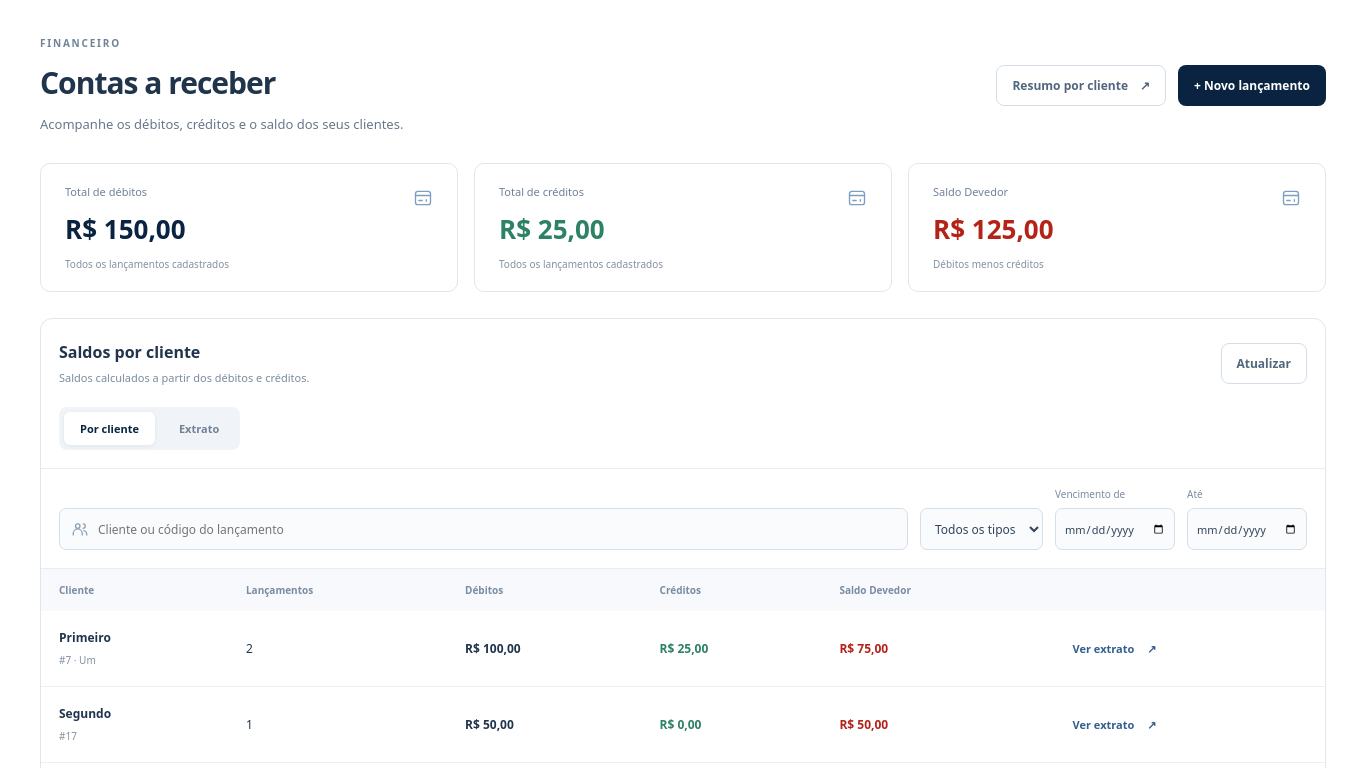
receivables screen › defaults to customer balances ordered by latest entry and opens an exact customer statement
The width and height of the screenshot is (1366, 768).
Expected: the row "Primeiro #7 · Um 2 R$ 100,00 R$ 25,00 R$ 75,00 Ver extrato ↗" is shown, [41,611,1325,687]
Expected: the row "Segundo #17 1 R$ 50,00 R$ 0,00 R$ 50,00 Ver extrato ↗" is shown, [41,687,1325,763]
Click the button with aria-label "Ver extrato de Primeiro".
click(1114, 649)  # box [1068,636,1161,661]
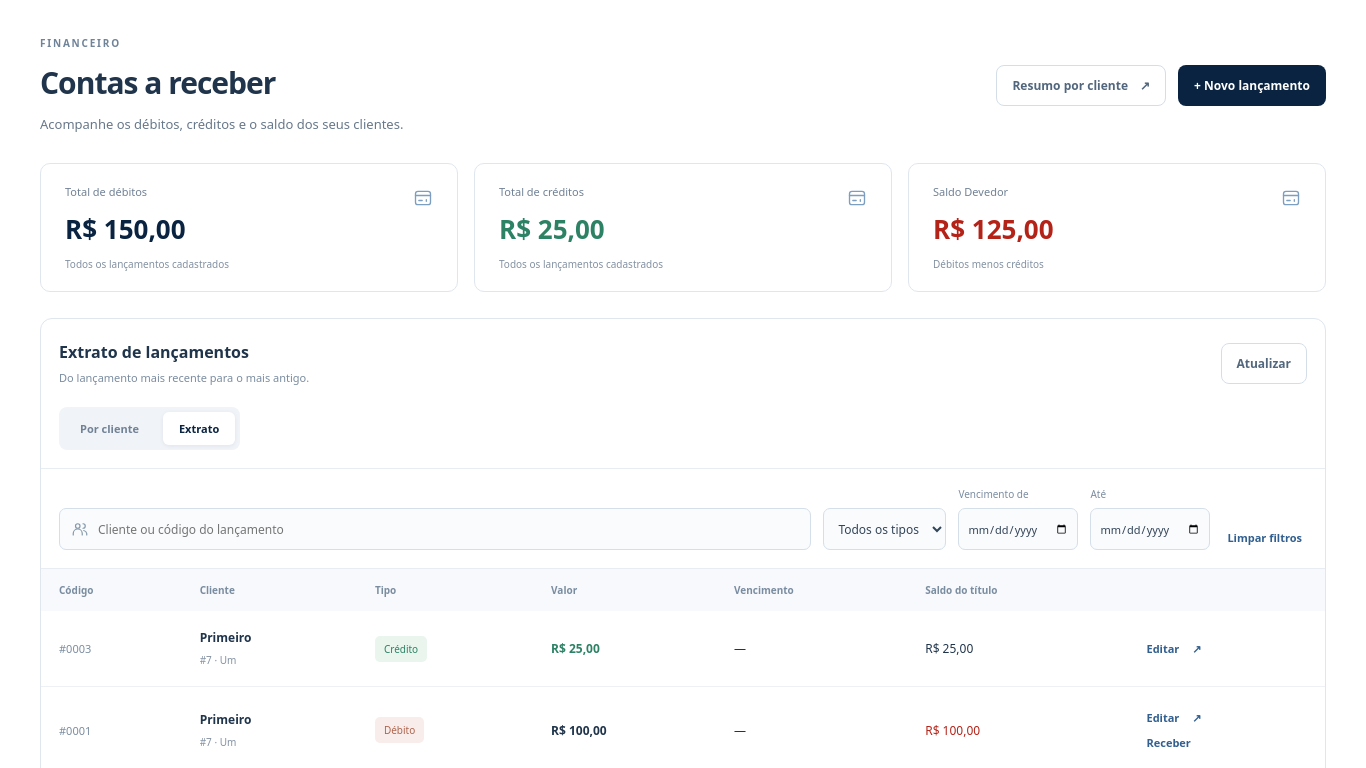
Now the row "#0003 Primeiro #7 · Um Crédito R$ 25,00 — R$ 25,00 Editar ↗" is shown, box [41,611,1325,687]
Click the button "Por cliente".
click(110, 429)  # box [64,412,155,445]
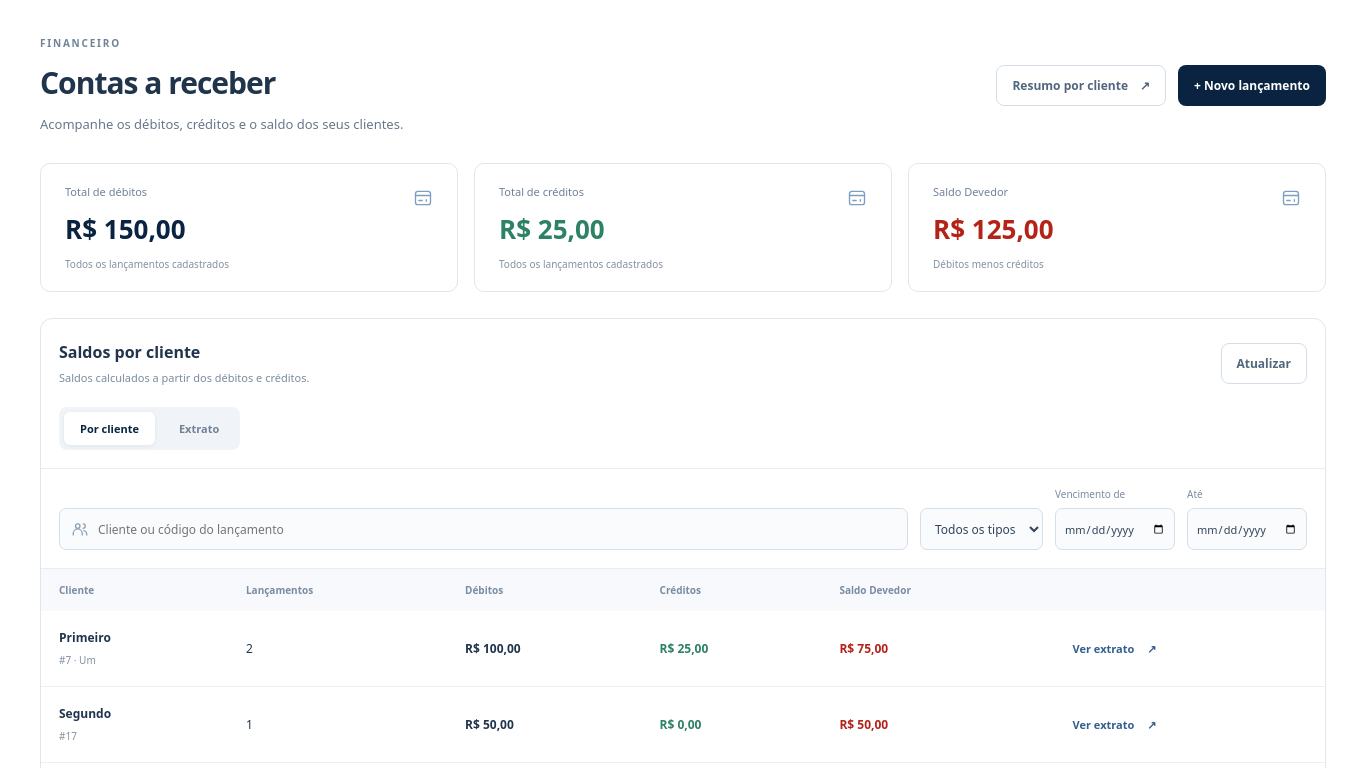
Now the button with aria-label "Ver extrato de Segundo" is shown, box [1068,712,1161,737]
